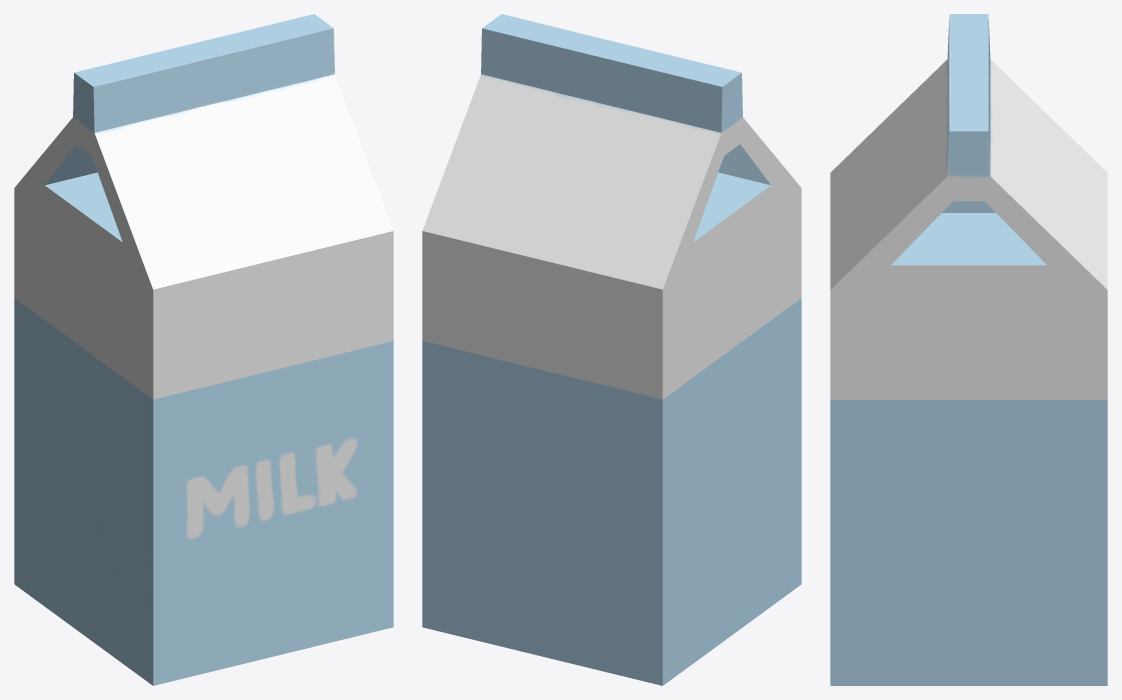
Rendered from leche.fbx.
The picture shows the model from 3 angles, left to right: view 1: azimuth 30°, elevation 25°; view 2: azimuth 150°, elevation 25°; view 3: azimuth 270°, elevation 25°; orthographic projection.
Visible parts, largest first — view 1: Cube; view 2: Cube; view 3: Cube.
Boxes of the visible parts, x1=… form: Cube: x1=14, y1=14, x2=393, y2=685; Cube: x1=422, y1=14, x2=801, y2=685; Cube: x1=830, y1=14, x2=1107, y2=685.
Size of the model in its own units: 47.82 by 106 by 47.82.
Materials: 1 (1 with a texture image).
